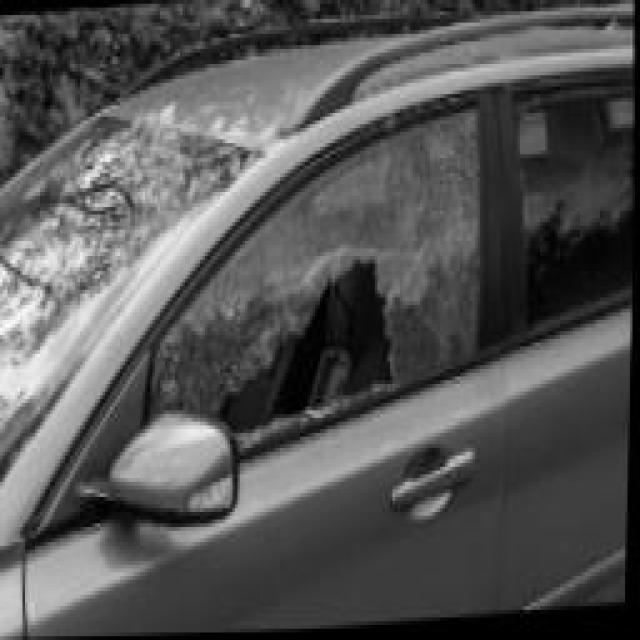Door: (230, 147, 487, 635)
